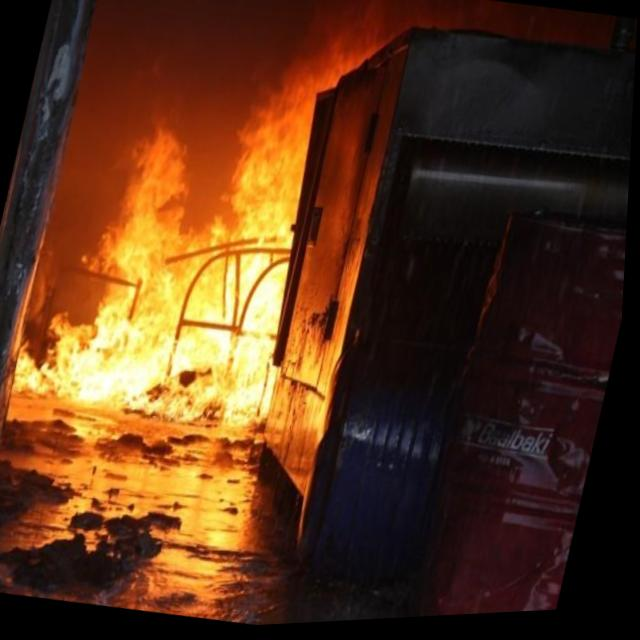fire: (1, 0, 360, 461)
